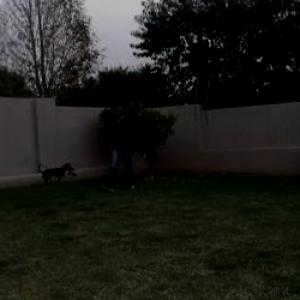follow: (108, 97, 138, 198)
